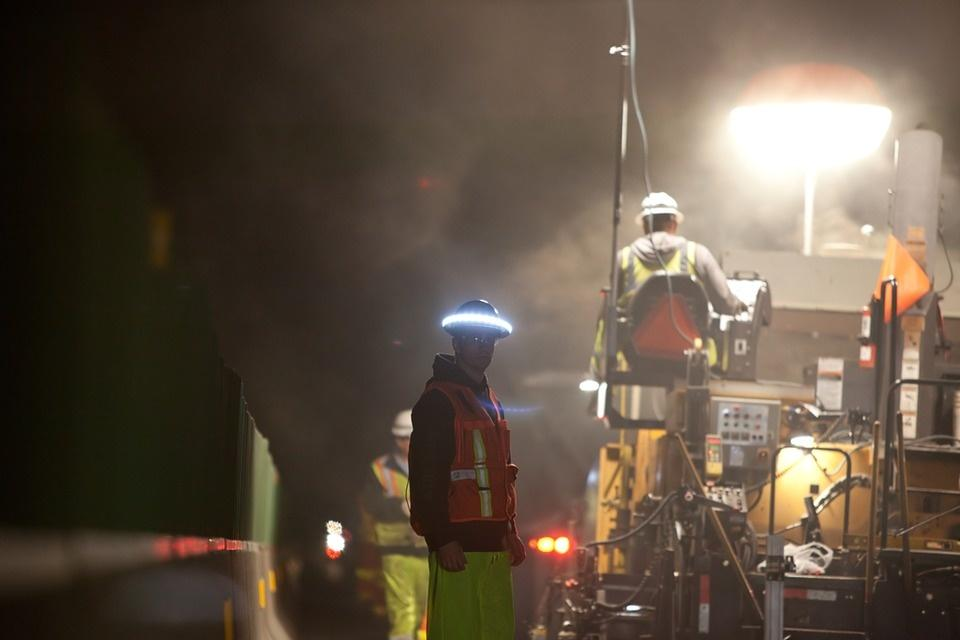Vest: (408, 381, 515, 537)
